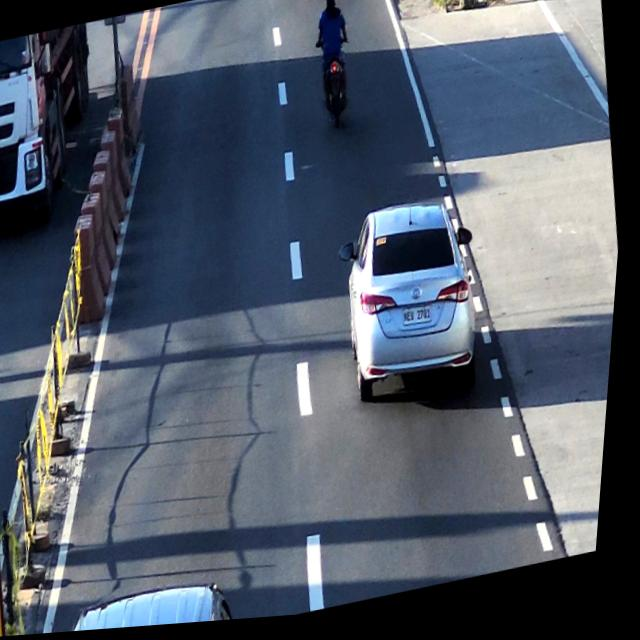Car: (330, 198, 500, 431), (62, 579, 259, 634)
License-Plate: (406, 307, 439, 334)
Motorcycle: (305, 0, 366, 148)
